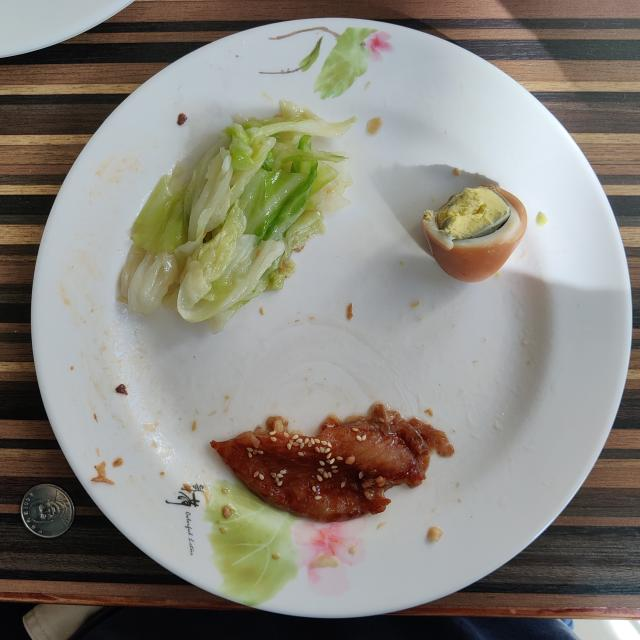Kabayaki sea bream fillet: (211, 402, 454, 522)
cabbage: (119, 100, 356, 332)
coin: (21, 484, 74, 538)
soy egg: (422, 185, 528, 282)
